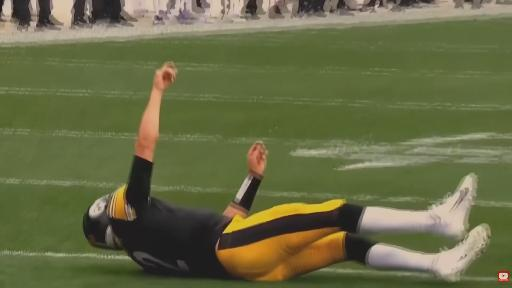Helmet: (83, 195, 121, 249)
Jersey: (108, 157, 231, 278)
Player: (83, 63, 490, 281)
